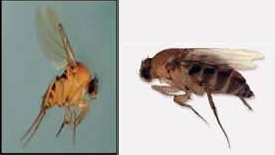phorid fly: (127, 32, 271, 149), (12, 4, 104, 150)
